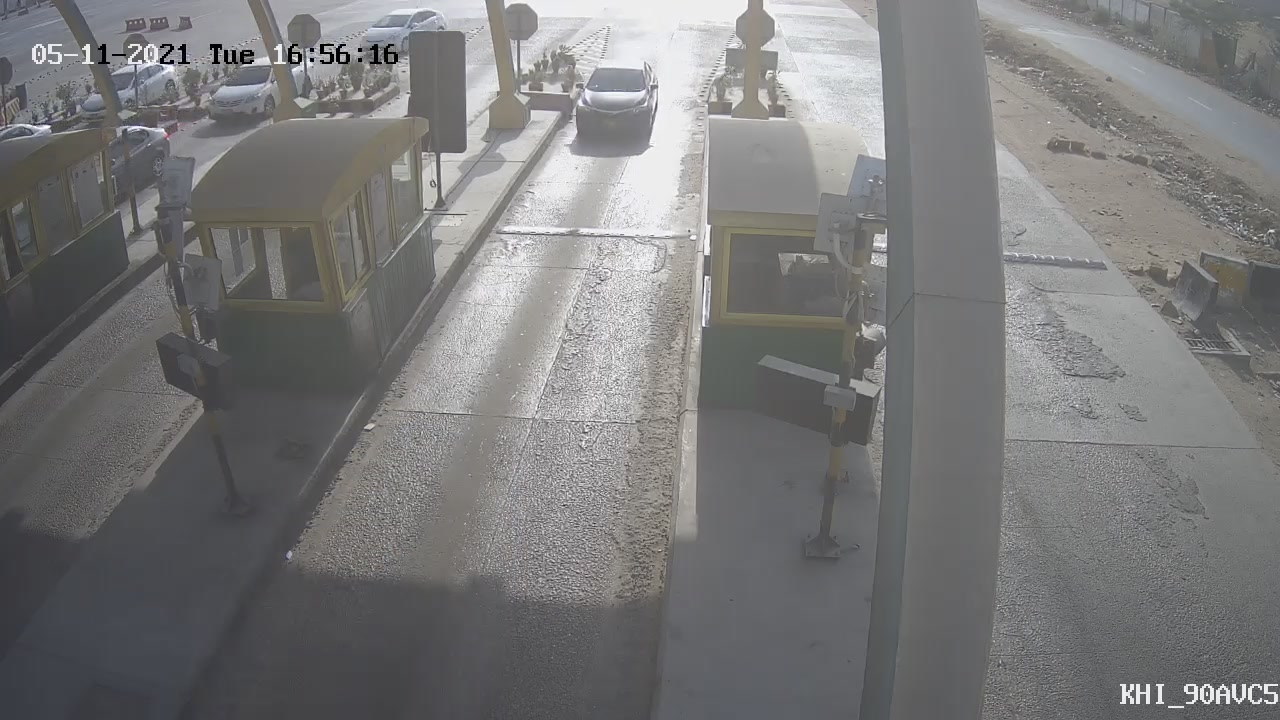F1: (556, 42, 674, 162)
